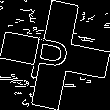P_N: (32, 27, 78, 83)
